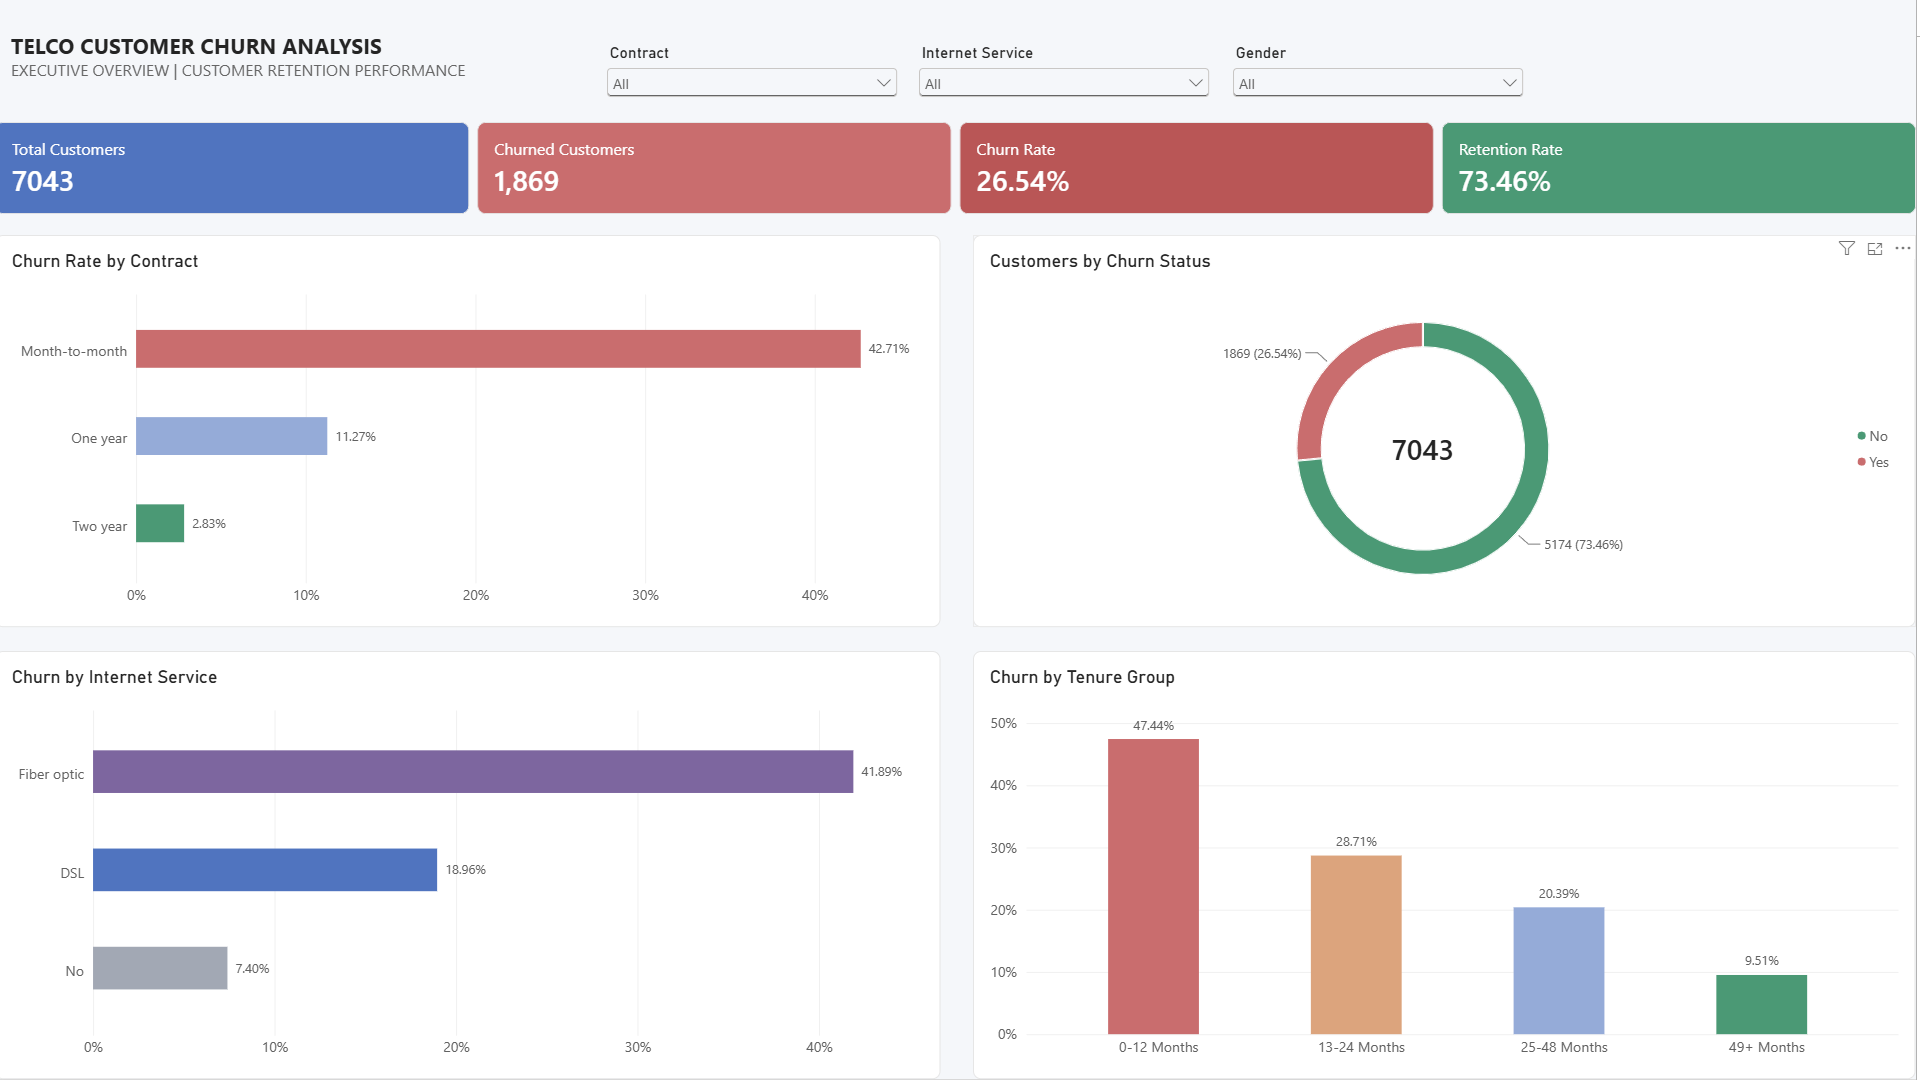

The page's visual inventory and layout, read from the dashboard file:
{"tool":"powerbi","page":{"name":"Page 1","canvas":[1920,1080],"ordinal":0},"visuals":[{"type":"cardVisual","fields":{"Data":["customers.Total Customers","customers.Churned Customers","customers.Churn Rate","customers.Retention Rate"]},"box":[0,122.7,1920,92.3],"z":0},{"type":"clusteredBarChart","title":"Churn Rate by Contract","fields":{"Category":["customers.contract"],"Y":["customers.Churn Rate"]},"box":[0,235.6,945.3,391.7],"z":1000},{"type":"donutChart","title":"Customers by Churn Status","fields":{"Category":["customers.churn"],"Y":["customers.Total Customers"]},"box":[977.7,235.6,942.3,391.7],"z":2000},{"type":"clusteredBarChart","title":"Churn by Internet Service","fields":{"Category":["customers.internet_service"],"Y":["customers.Churn Rate"]},"box":[0,651.8,945.3,428],"z":3000},{"type":"clusteredColumnChart","title":"Churn by Tenure Group","fields":{"Category":["customers.Tenure Group"],"Y":["customers.Churn Rate"]},"box":[977.7,651.8,942.3,428],"z":4000},{"type":"slicer","fields":{"Values":["customers.contract"]},"box":[606.7,44,299.8,63],"z":5000},{"type":"slicer","fields":{"Values":["customers.internet_service"]},"box":[918.5,44,299.8,94],"z":6000},{"type":"slicer","fields":{"Values":["customers.gender"]},"box":[1232.4,44,299.8,94],"z":7000},{"type":"textbox","box":[16,32,531.7,87],"z":8000}]}

Visuals, with their boxes in screenshot pixels (x1, y1, x2, y2), scaled from the page's 1920x1080 canvas onto the 1920x1080 screenshot:
cardVisual - customers.Total Customers x customers.Churned Customers: rect(0, 123, 1919, 215)
"Churn Rate by Contract" clusteredBarChart: rect(0, 236, 945, 627)
"Customers by Churn Status" donutChart: rect(978, 236, 1919, 627)
"Churn by Internet Service" clusteredBarChart: rect(0, 652, 945, 1079)
"Churn by Tenure Group" clusteredColumnChart: rect(978, 652, 1919, 1079)
slicer - customers.contract: rect(607, 44, 906, 107)
slicer - customers.internet_service: rect(918, 44, 1218, 138)
slicer - customers.gender: rect(1232, 44, 1532, 138)
textbox: rect(16, 32, 548, 119)
